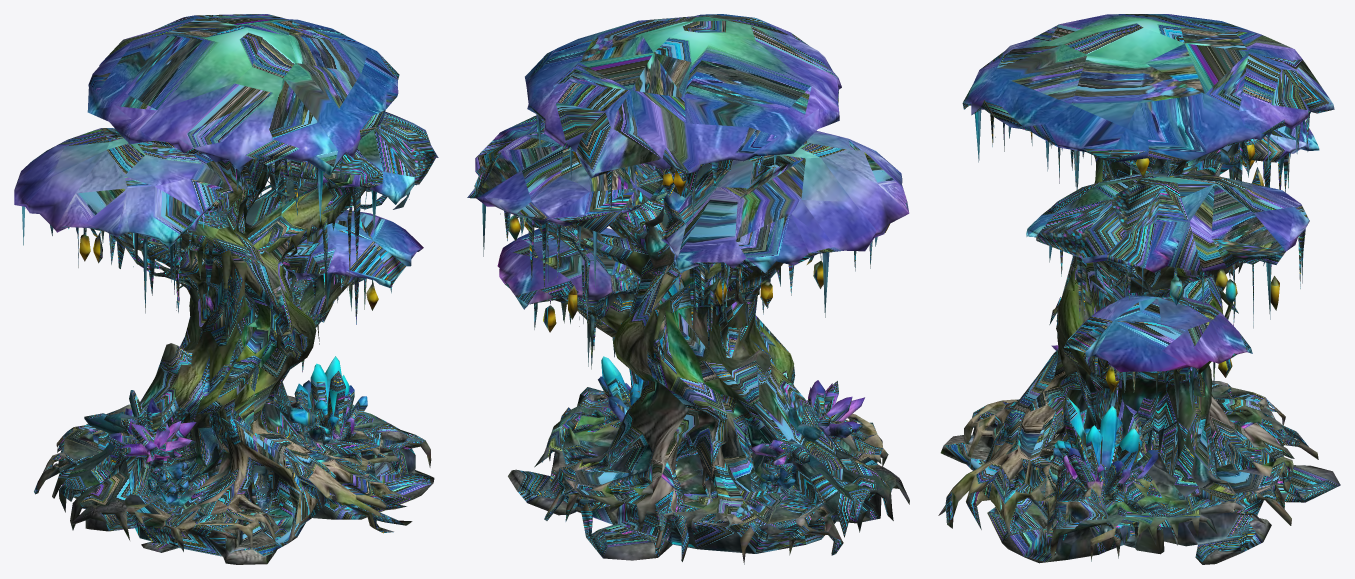
The model's file is Luminous_Crystalline_.glb.
3 views of the same model, side by side, from view 1: azimuth 30°, elevation 25°; view 2: azimuth 150°, elevation 25°; view 3: azimuth 270°, elevation 25° (orthographic). The views are drawn at different scales.
Parts seen in each view (by area): view 1: Luminous_Crystalline_; view 2: Luminous_Crystalline_; view 3: Luminous_Crystalline_.
Part boxes in pixels (box(x1,y1,x2,y2)): Luminous_Crystalline_: box(14, 14, 438, 564); Luminous_Crystalline_: box(467, 14, 909, 564); Luminous_Crystalline_: box(938, 14, 1340, 564).
Bounding box in the file's own units: 1.74 × 1.9 × 1.49.
1 material, 1 textured.
